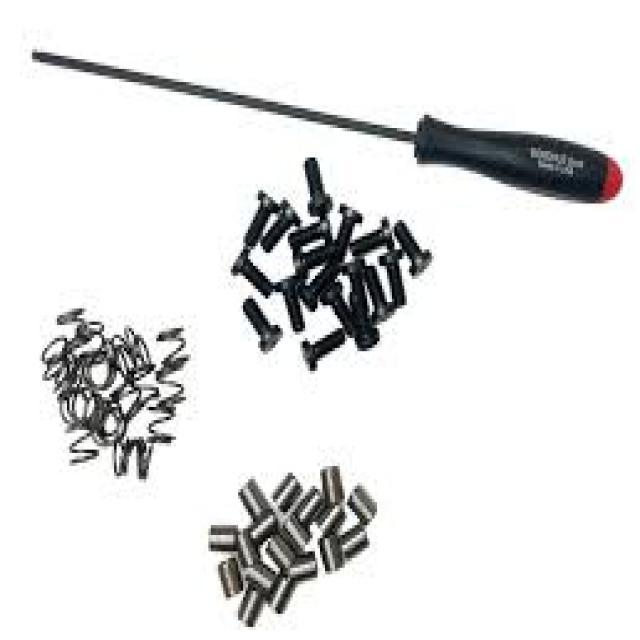screwdriver: (23, 40, 629, 208)
